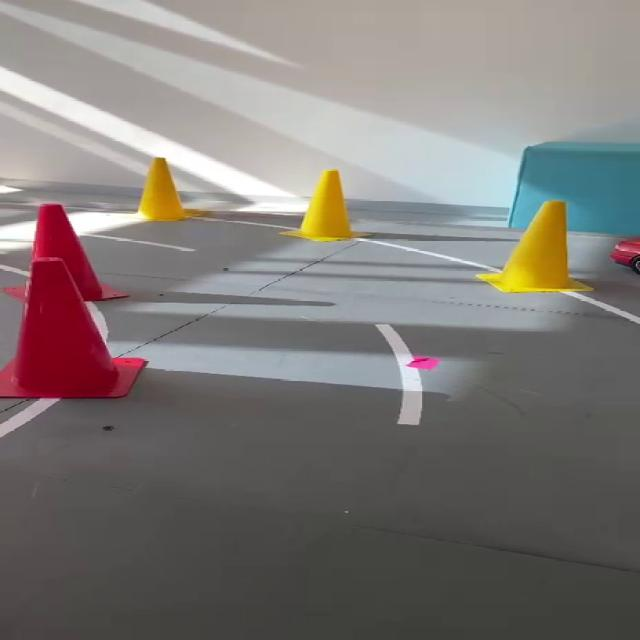Cone-red: (0, 258, 145, 398), (32, 204, 123, 299)
Cones-yellow: (477, 201, 590, 292), (286, 169, 357, 241), (138, 158, 199, 221)
